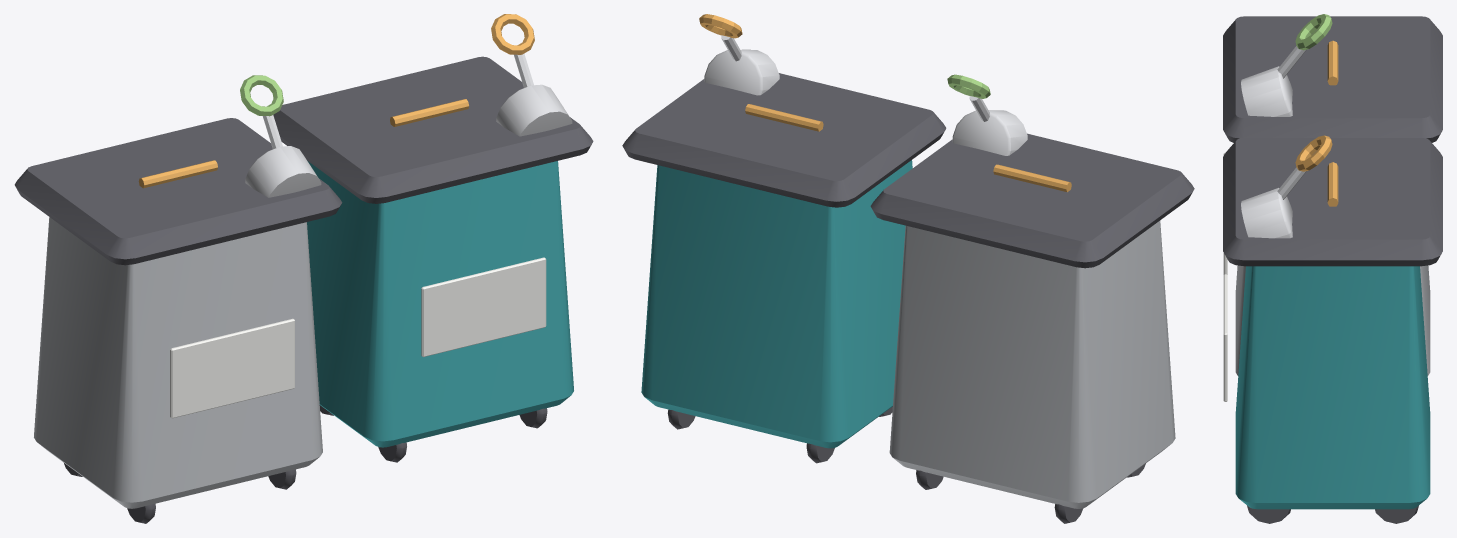
File: pet-shop-and-grooming-salon-feed-bin-and-scoop-set-cd856265__34590.glb
3 renders of one model, left to right at view 1: azimuth 30°, elevation 25°; view 2: azimuth 150°, elevation 25°; view 3: azimuth 270°, elevation 25°, orthographic.
Parts seen in each view (by area): view 1: feed-bin-and-scoop-set; view 2: feed-bin-and-scoop-set; view 3: feed-bin-and-scoop-set.
Part boxes in pixels (left/top/right/bottom): feed-bin-and-scoop-set: left=14, top=14, right=593, bottom=523; feed-bin-and-scoop-set: left=622, top=14, right=1194, bottom=523; feed-bin-and-scoop-set: left=1223, top=14, right=1442, bottom=523.
Bounding box in the file's own units: 1.31 × 1.01 × 0.5199.
